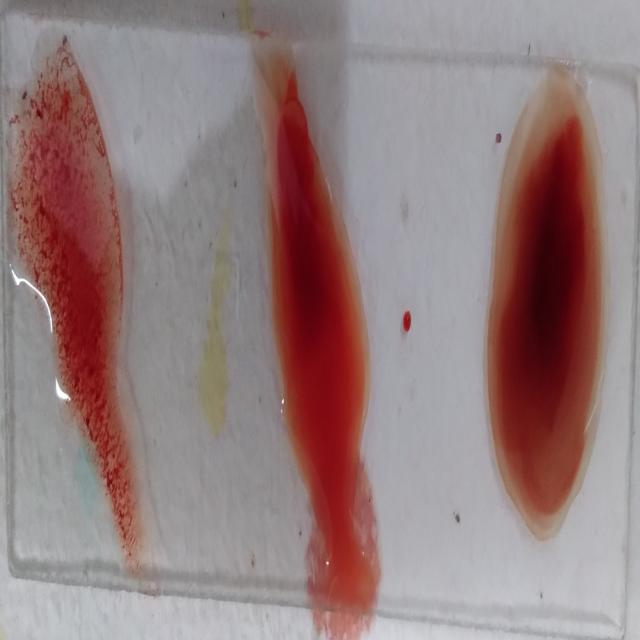D: (8, 28, 148, 590)
